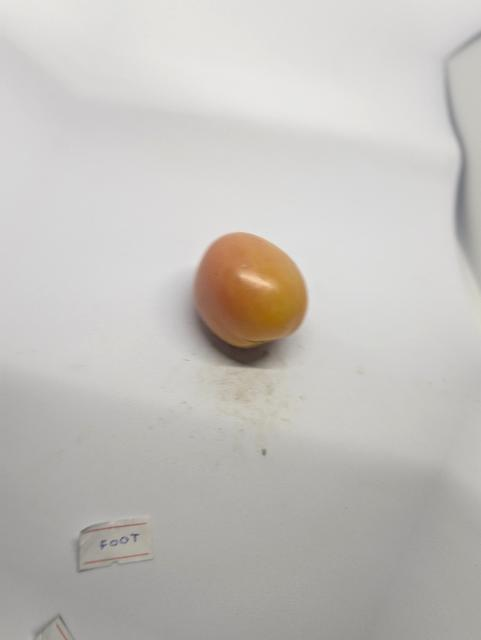turning: (190, 223, 318, 362)
